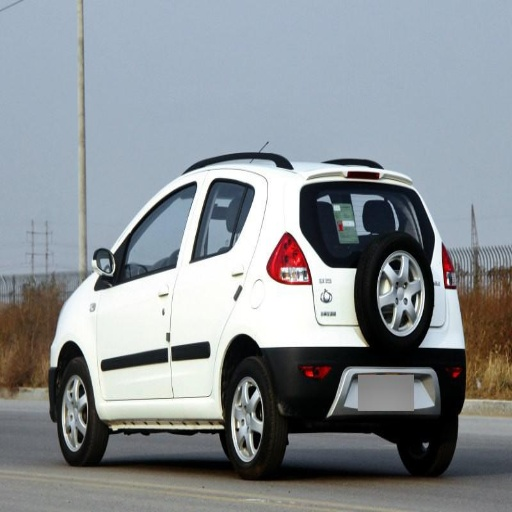back_bumper: (255, 285, 395, 427)
back_glass: (303, 183, 368, 204)
back_left_door: (172, 174, 255, 398)
trunk: (316, 261, 356, 325)
